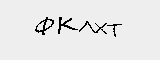К: (56, 12, 76, 38)
Л: (77, 17, 96, 38)
Т: (105, 19, 122, 40)
Ф: (34, 16, 56, 37)
Х: (93, 18, 108, 39)
